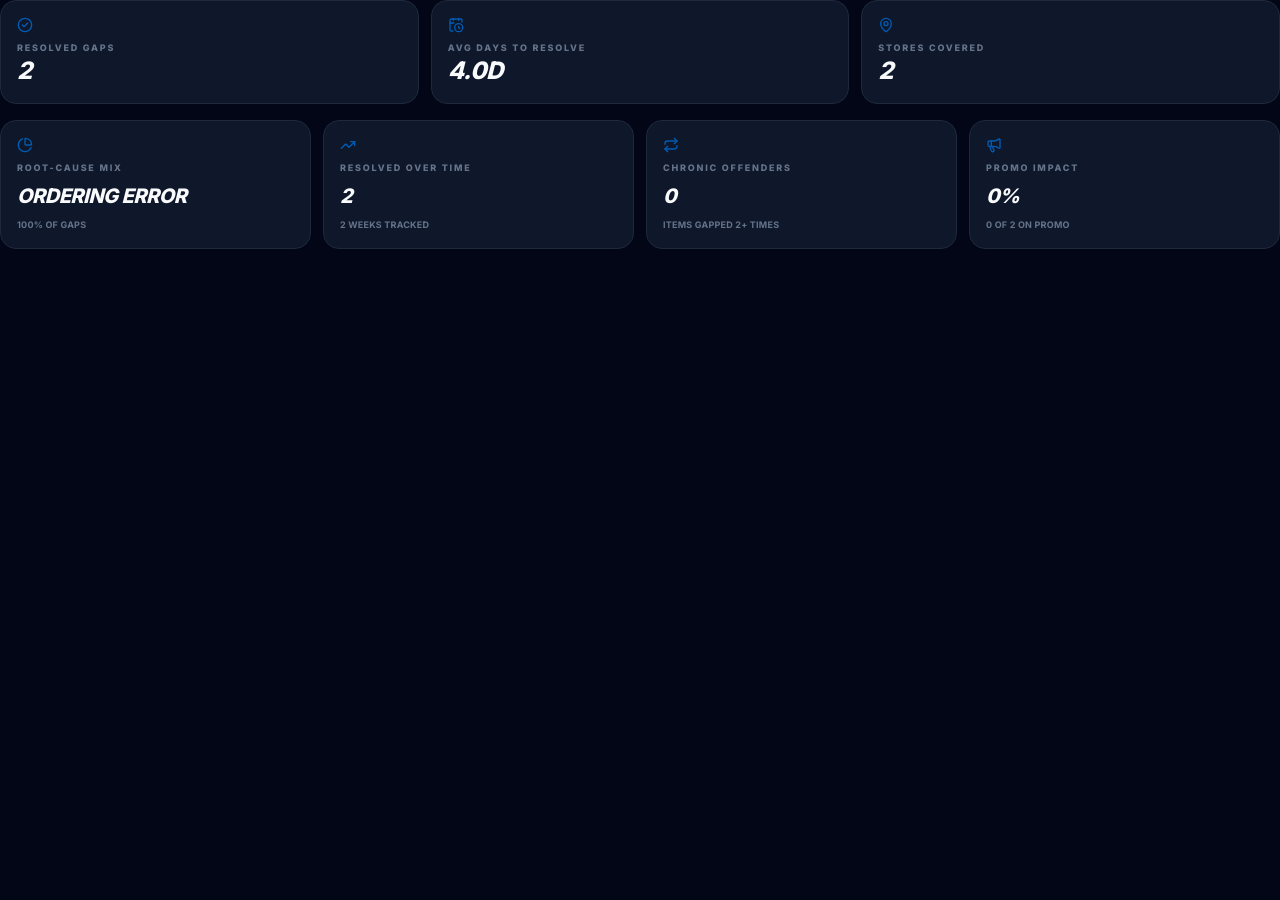
Scenario: InsightsAnalytics › shows resolution-centric KPIs on the resolved view
Expected: the text "Resolved Gaps" is shown, x1=17 y1=42 x2=115 y2=53
Expected: the text "Avg Days To Resolve" is shown, x1=448 y1=42 x2=586 y2=53
// ...and its modal carries the resolved title too.
Click the button "Resolved Over Time 2 2 weeks tracked" at {"x": 406, "y": 167}, box x1=323 y1=120 x2=634 y2=248
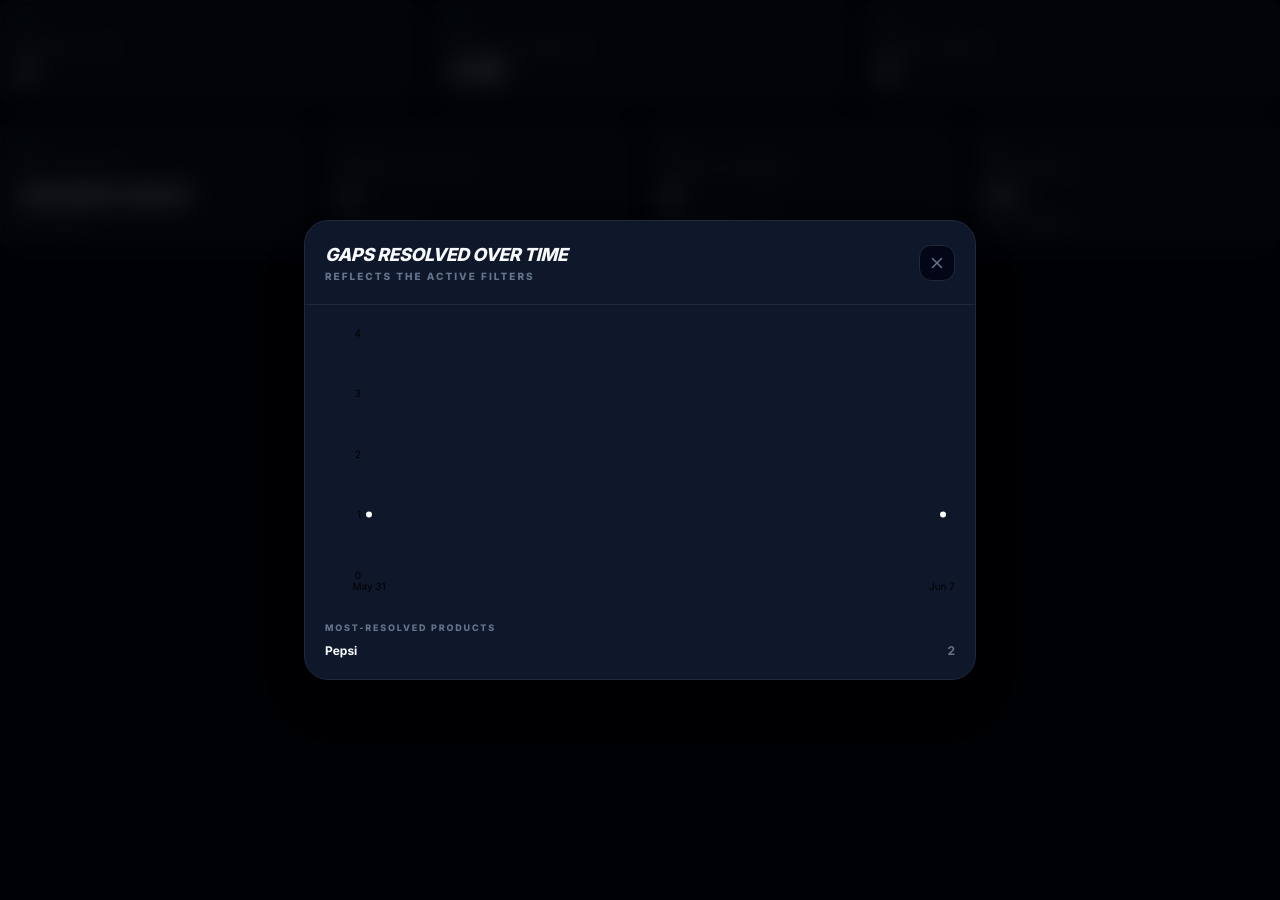
Expected: the heading "Gaps Resolved Over Time" is shown, x1=325 y1=241 x2=571 y2=269
